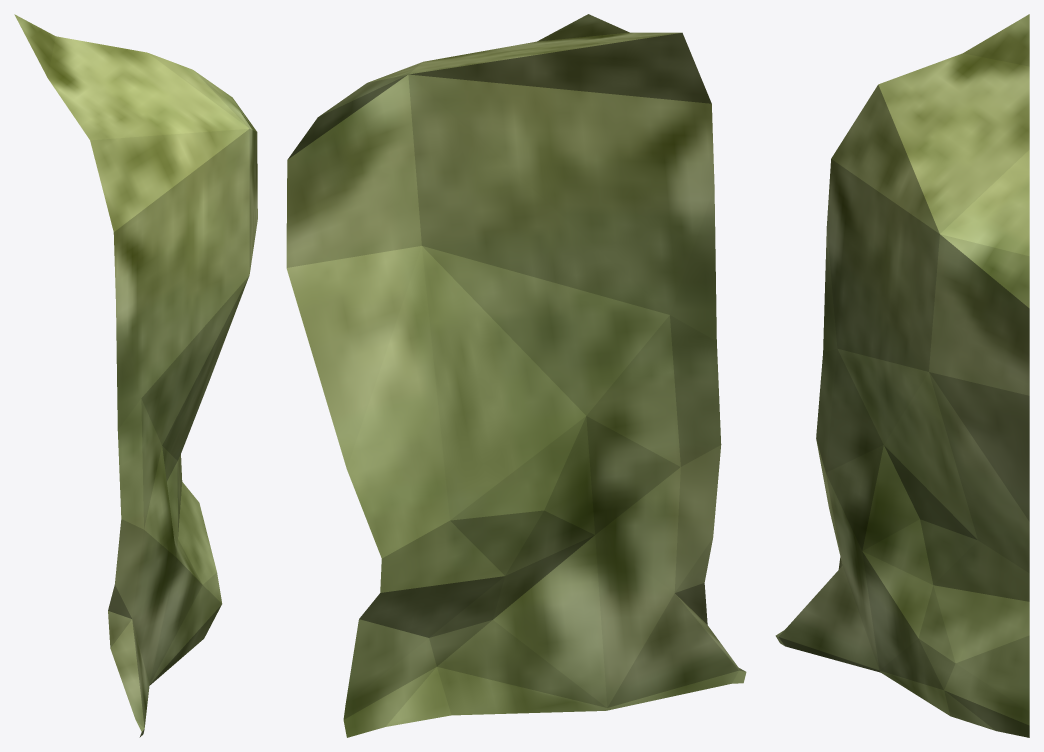
3 renders of one model, left to right at view 1: azimuth 30°, elevation 25°; view 2: azimuth 150°, elevation 25°; view 3: azimuth 270°, elevation 25°, orthographic. The views are drawn at different scales.
Size of the model in its own units: 0.7532 by 1.87 by 0.6829.
Materials: 1 (1 with a texture image).
